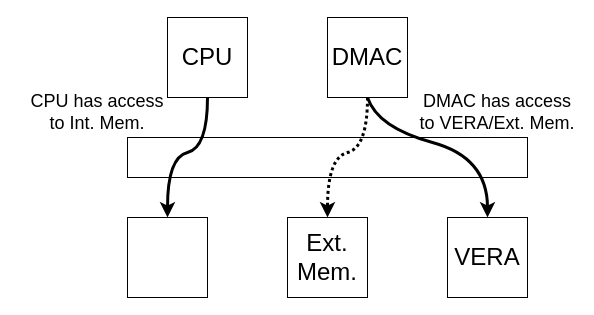
The diagram is 594 pixels wide and 315 high, and some of its shapes have lost their labels. Here are the shapes that lost their labels. From the top down, the box of each, then its label:
(126, 136, 528, 178): CrossBar Interconnect
(126, 216, 208, 298): Int. Mem.
